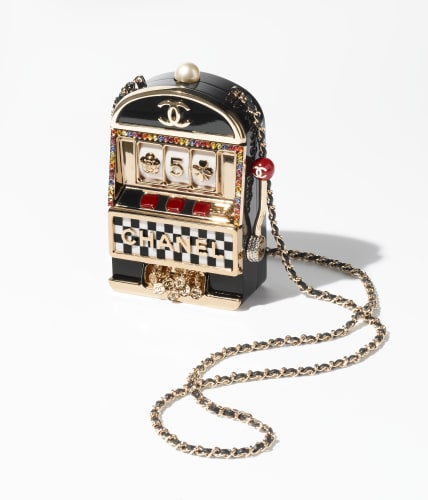channel: (77, 53, 275, 326), (143, 93, 194, 132)
